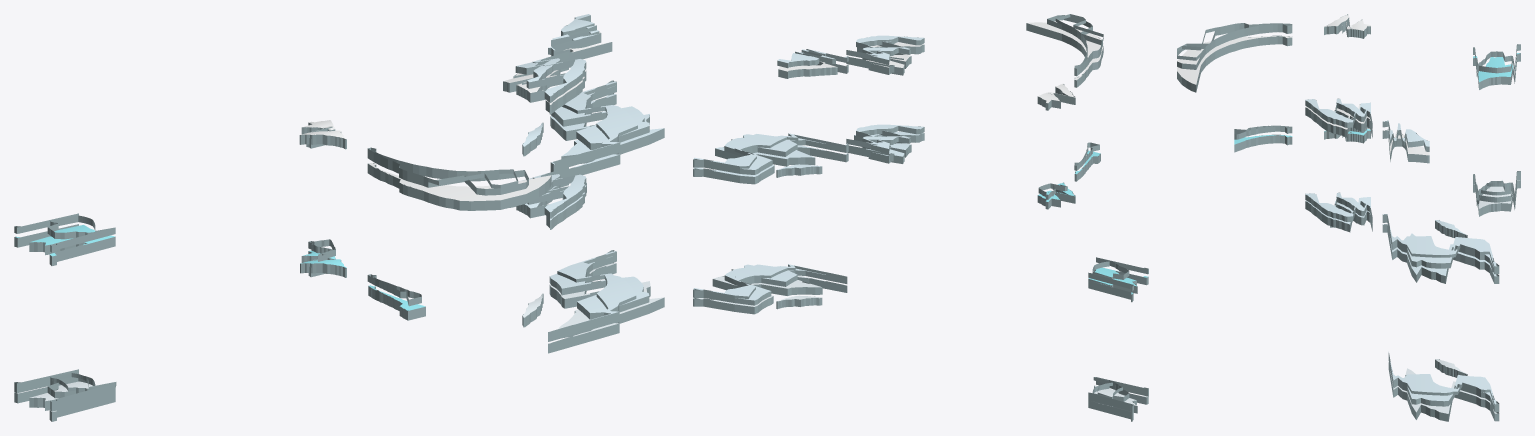
Rendered from yuna_semantic_layer_v9_hair_art_directed_v1_fuller.obj.
3 views of the same model, side by side, from view 1: azimuth 30°, elevation 25°; view 2: azimuth 150°, elevation 25°; view 3: azimuth 270°, elevation 25° (orthographic). The views are drawn at different scales.
Parts seen in each view (by area): view 1: bangs_primary_01, back_hair_mass_01, secondary_strands_02, secondary_strands_01, side_hair_right_primary_01, flyaway_strands_02, flyaway_strands_01, side_hair_left_primary_01, secondary_strands_03, secondary_strands_05, back_hair_mass_02, flyaway_strands_03 (+13 smaller); view 2: back_hair_mass_01, side_hair_right_primary_01, secondary_strands_01, secondary_strands_02, flyaway_strands_01, flyaway_strands_02, bangs_primary_01, side_hair_left_primary_01, secondary_strands_10, secondary_strands_09, secondary_strands_05, bangs_primary_02 (+14 smaller); view 3: bangs_primary_01, side_hair_right_primary_01, back_hair_mass_01, secondary_strands_01, flyaway_strands_01, flyaway_strands_02, secondary_strands_02, secondary_strands_03, side_hair_left_primary_01, flyaway_strands_03, secondary_strands_09, secondary_strands_10 (+16 smaller).
Part boxes in pixels (x1=…): bangs_primary_01: x1=367, y1=163, x2=551, y2=210; back_hair_mass_01: x1=548, y1=262, x2=664, y2=353; secondary_strands_02: x1=548, y1=255, x2=649, y2=341; secondary_strands_01: x1=550, y1=85, x2=649, y2=172; side_hair_right_primary_01: x1=550, y1=93, x2=664, y2=177; flyaway_strands_02: x1=548, y1=250, x2=636, y2=335; flyaway_strands_01: x1=550, y1=80, x2=637, y2=168; side_hair_left_primary_01: x1=14, y1=224, x2=115, y2=265; secondary_strands_03: x1=367, y1=151, x2=528, y2=195; secondary_strands_05: x1=14, y1=213, x2=115, y2=252; back_hair_mass_02: x1=14, y1=381, x2=115, y2=421; flyaway_strands_03: x1=367, y1=147, x2=518, y2=188; back_hair_mass_01: x1=693, y1=269, x2=847, y2=314; side_hair_right_primary_01: x1=693, y1=139, x2=848, y2=184; secondary_strands_01: x1=693, y1=134, x2=848, y2=174; secondary_strands_02: x1=693, y1=264, x2=847, y2=305; flyaway_strands_01: x1=693, y1=133, x2=848, y2=168; flyaway_strands_02: x1=693, y1=264, x2=847, y2=298; bangs_primary_01: x1=1026, y1=22, x2=1103, y2=87; side_hair_left_primary_01: x1=1088, y1=267, x2=1148, y2=302; secondary_strands_10: x1=846, y1=35, x2=924, y2=59; secondary_strands_09: x1=846, y1=124, x2=924, y2=148; secondary_strands_05: x1=1088, y1=257, x2=1148, y2=291; bangs_primary_02: x1=778, y1=61, x2=848, y2=78; bangs_primary_01: x1=1177, y1=35, x2=1292, y2=92; side_hair_right_primary_01: x1=1382, y1=224, x2=1499, y2=283; back_hair_mass_01: x1=1388, y1=361, x2=1499, y2=421; secondary_strands_01: x1=1382, y1=217, x2=1499, y2=274; flyaway_strands_01: x1=1382, y1=214, x2=1499, y2=269; flyaway_strands_02: x1=1388, y1=351, x2=1499, y2=406; secondary_strands_02: x1=1388, y1=356, x2=1499, y2=412; secondary_strands_03: x1=1177, y1=25, x2=1292, y2=69; side_hair_left_primary_01: x1=1473, y1=53, x2=1520, y2=89; flyaway_strands_03: x1=1177, y1=23, x2=1292, y2=60; secondary_strands_09: x1=1305, y1=193, x2=1372, y2=222; secondary_strands_10: x1=1305, y1=99, x2=1372, y2=128.
Size of the model in its own units: 2.99 by 1.5 by 1.85.
